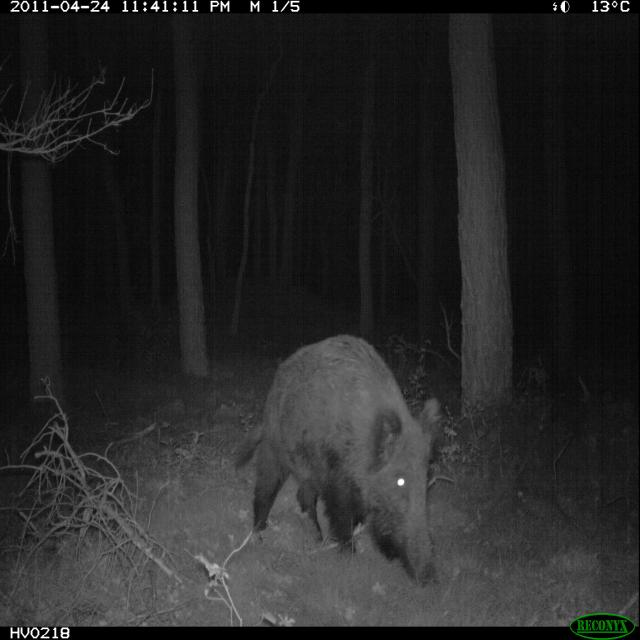boar: (232, 321, 453, 595)
